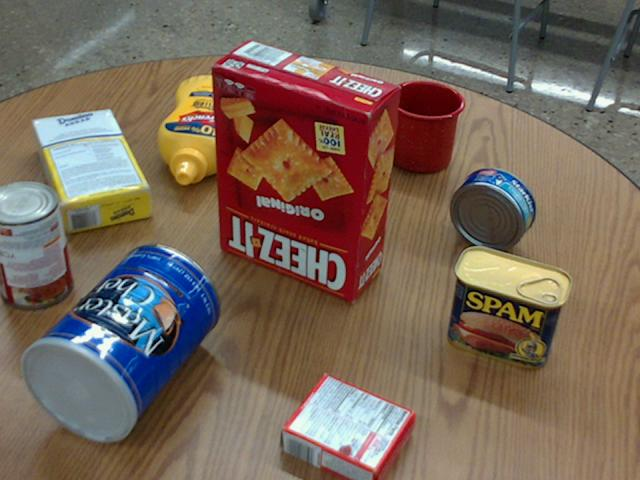cracker_box: (211, 40, 400, 300)
gelatin_box: (281, 373, 415, 479)
large_marker: (305, 100, 340, 157)
master_chef_can: (21, 243, 220, 442)
mug: (385, 80, 464, 173)
mustard_bottle: (157, 76, 254, 184)
potted_meat_can: (447, 246, 572, 367)
sugar_box: (31, 105, 151, 234)
tomato_soup_can: (0, 180, 72, 308)
tuna_fish_can: (449, 167, 535, 250)
